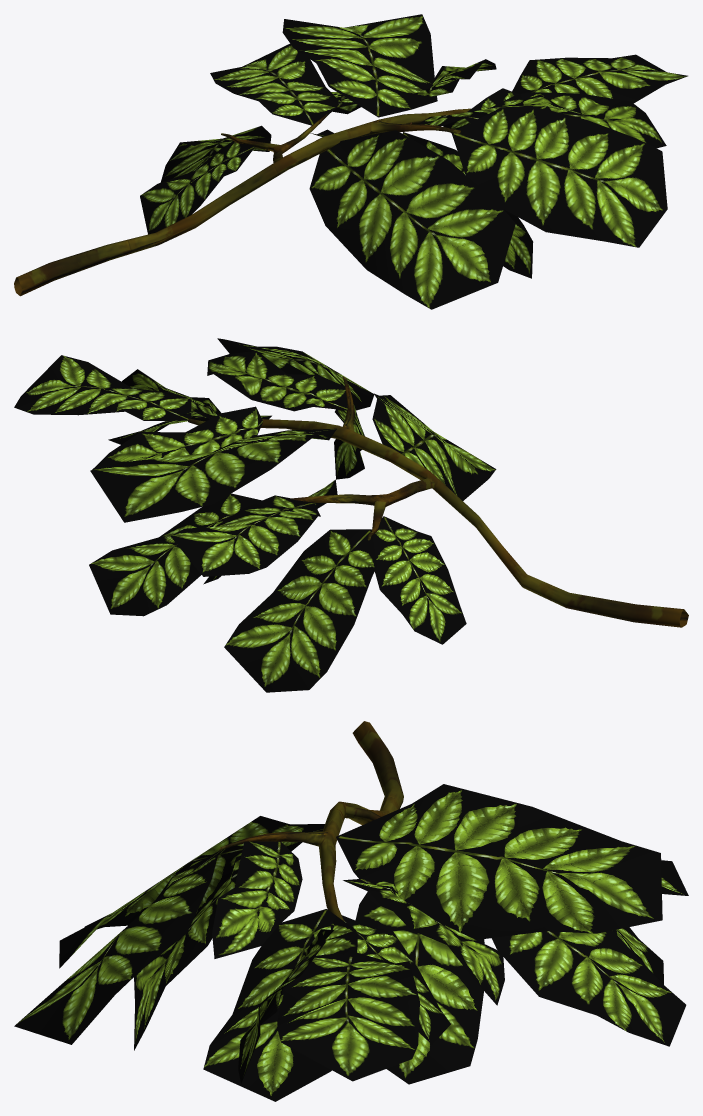
File: Ast_LP.FBX
The picture shows the model from 3 angles, top to bottom: view 1: azimuth 30°, elevation 25°; view 2: azimuth 150°, elevation 25°; view 3: azimuth 270°, elevation 25°; orthographic projection. The views are drawn at different scales.
Parts seen in each view (by area): view 1: Ast_LP; view 2: Ast_LP; view 3: Ast_LP.
Part boxes in pixels (<box>): Ast_LP: <box>14,14,687,309</box>; Ast_LP: <box>14,338,688,692</box>; Ast_LP: <box>14,721,688,1101</box>.
Size of the model in its own units: 5082 by 3443 by 1361.
